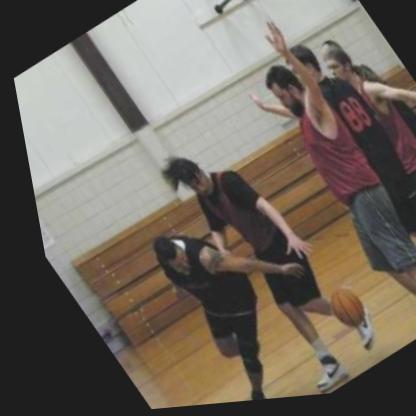basketball: (306, 284, 365, 342)
